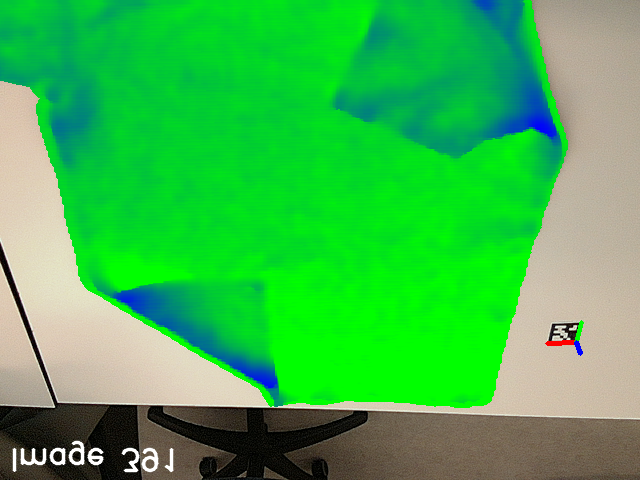V: (320, 73, 363, 124), (433, 131, 477, 169), (232, 269, 273, 306)
